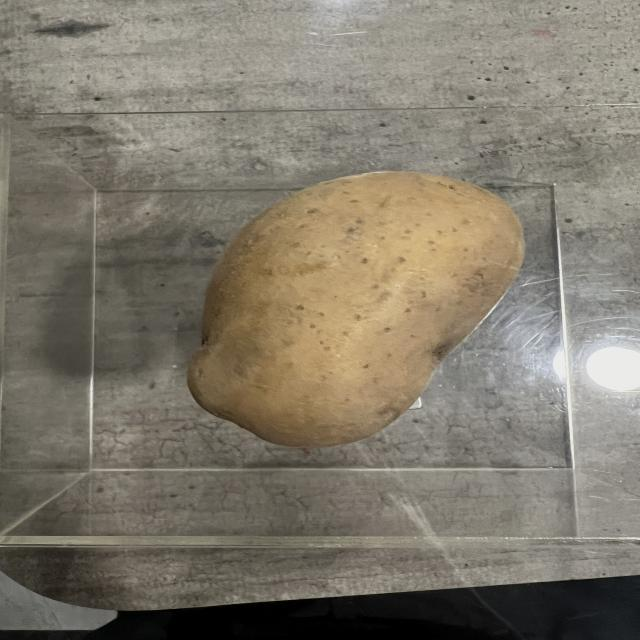potato: (183, 172, 526, 446)
